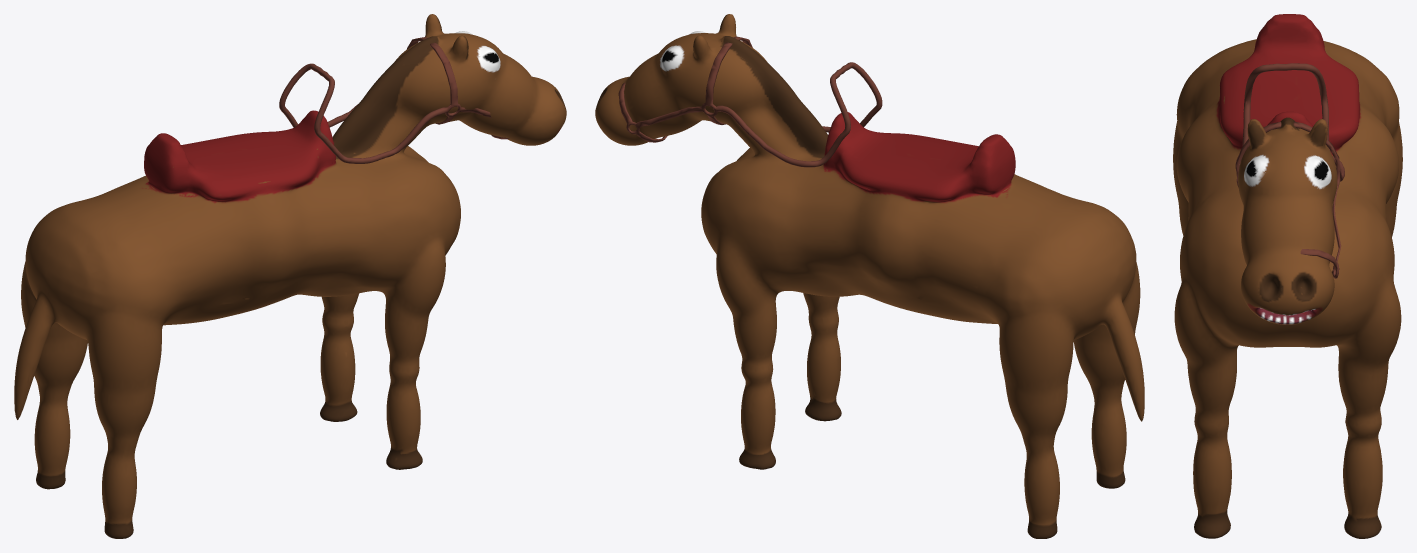
Rendered from konik.fbx.
3 views of the same model, side by side, from view 1: azimuth 30°, elevation 25°; view 2: azimuth 150°, elevation 25°; view 3: azimuth 270°, elevation 25° (orthographic). The views are drawn at different scales.
Parts seen in each view (by area): view 1: export, BézierCurve.003; view 2: export, BézierCurve.003; view 3: export, BézierCurve.003.
Boxes of the visible parts, <box> form: export: <box>14,14,566,538</box>; BézierCurve.003: <box>279,37,509,163</box>; export: <box>595,14,1144,538</box>; BézierCurve.003: <box>618,36,882,167</box>; export: <box>1173,14,1402,538</box>; BézierCurve.003: <box>1235,63,1344,278</box>.
Size of the model in its own units: 2820 by 1964 by 900.
